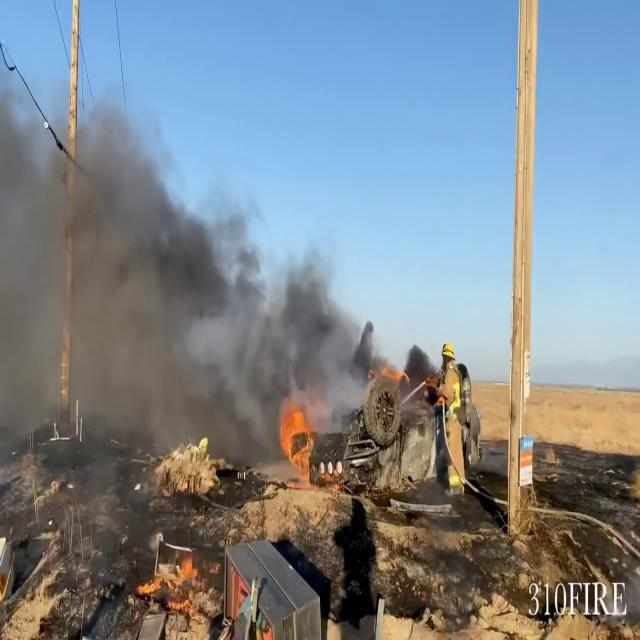Fire: (277, 396, 323, 476)
Smoke: (0, 62, 375, 470)
